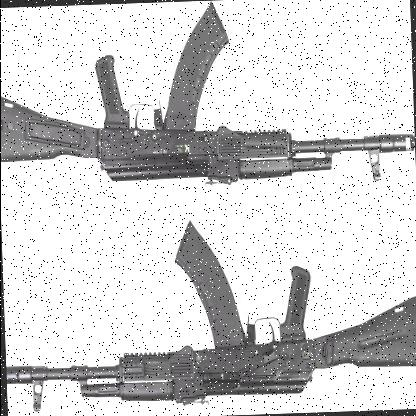rifle: (0, 199, 416, 416), (0, 1, 414, 195)
